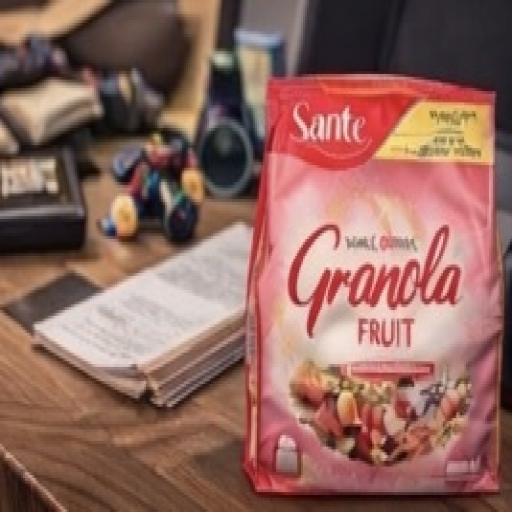granola: (224, 60, 502, 501)
